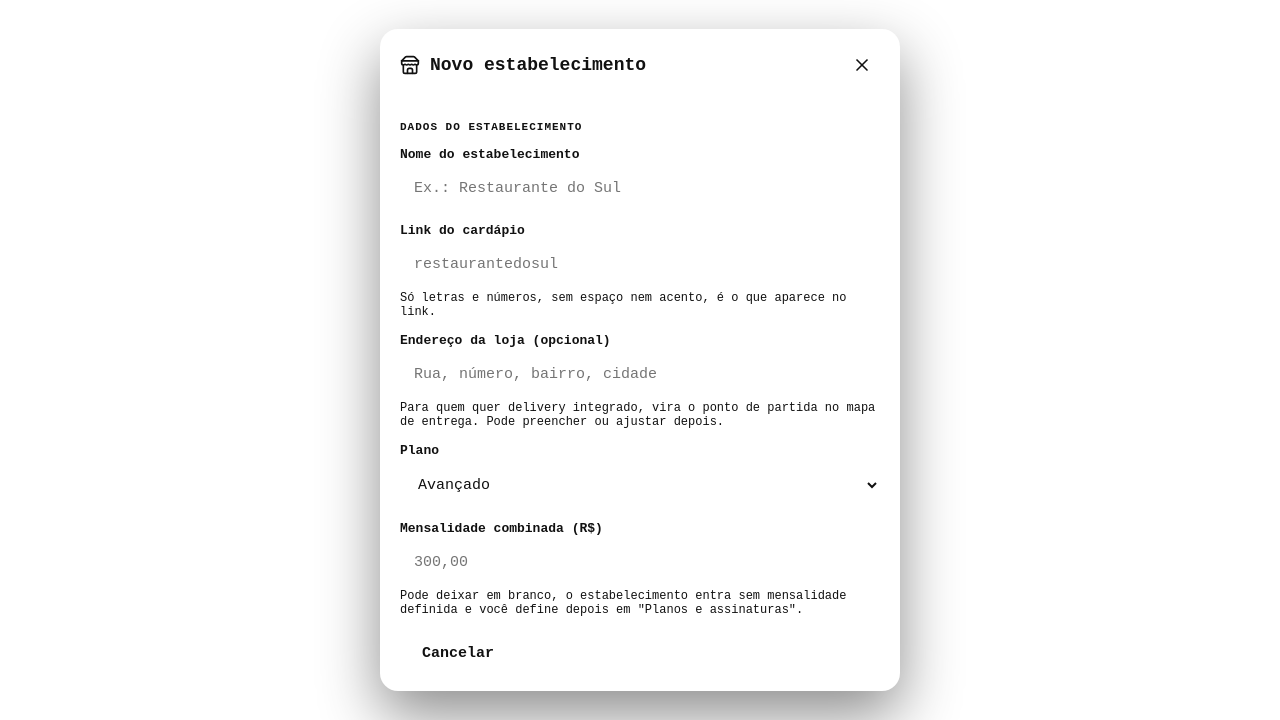
Scenario: NovoEstabelecimentoModal, a mensalidade combinada › valor inválido explica em português e trava o botão
Type "trezentos" into the field labelled "Mensalidade combinada" at (640, 562), box [400,542,880,583]
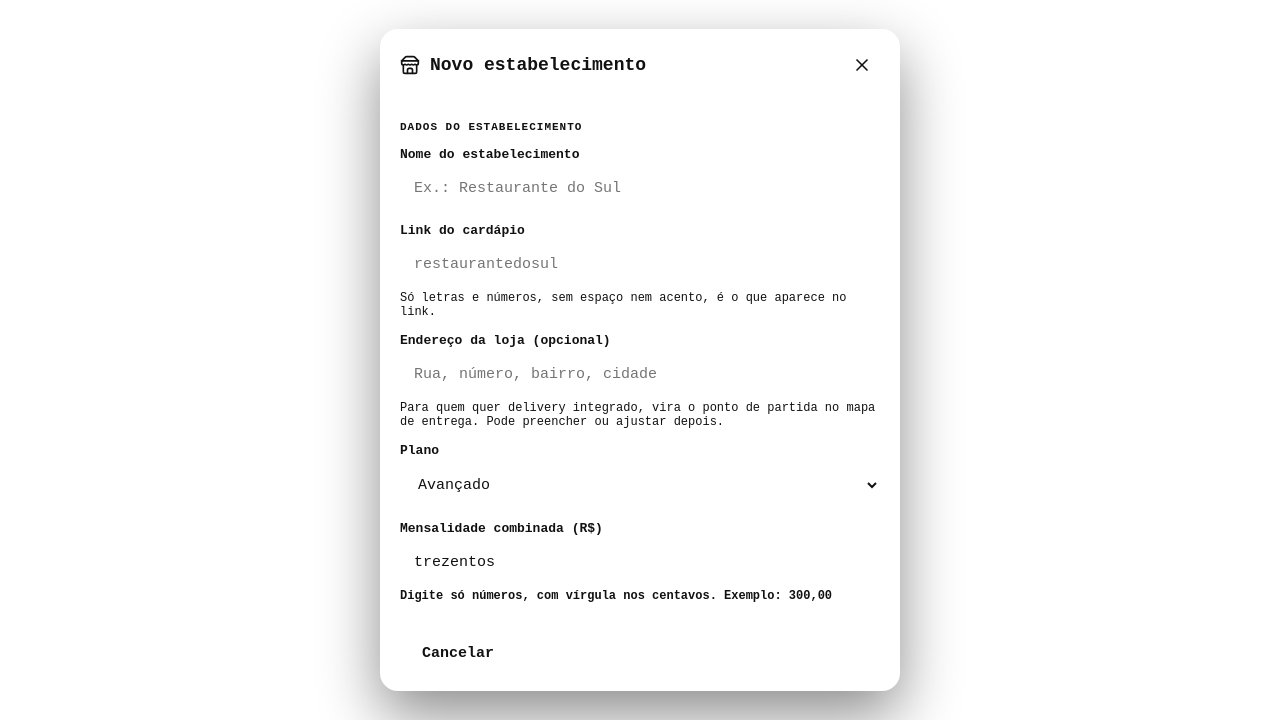
Now the text "Digite só números, com vírgula nos centavos. Exemplo: 300,00" is shown, box [400,589,880,603]
